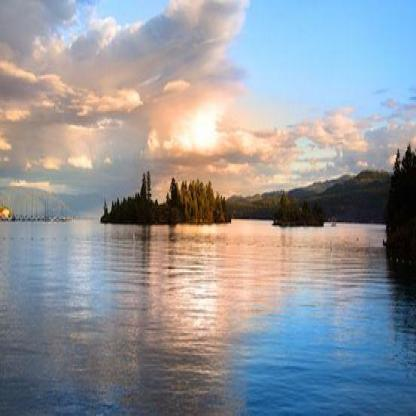other: (172, 117, 228, 153)
